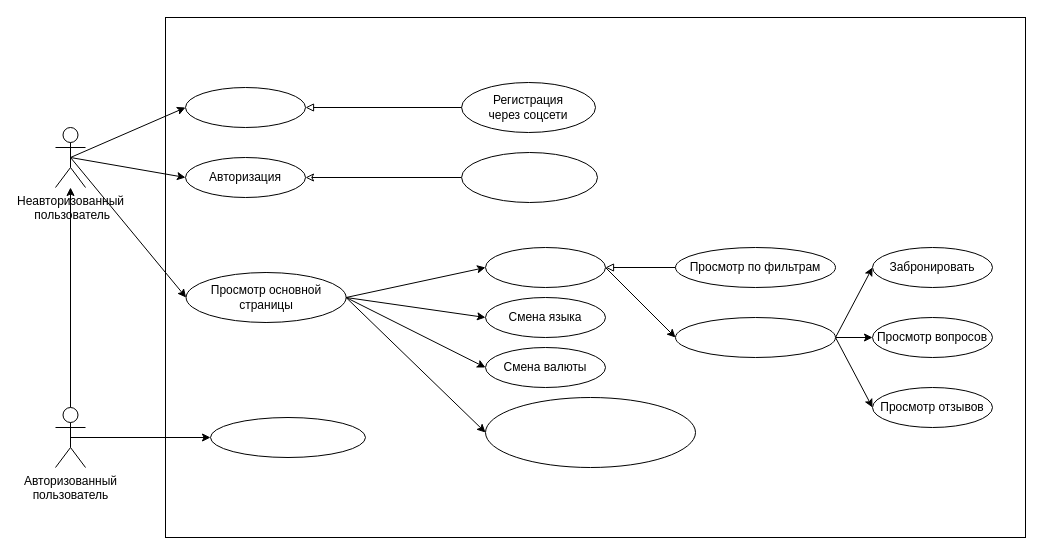
Image size: 1043x555. Some labels were removed from this diagram. The shapes that lost their labels are listed below. From the top down, each one's centre as x and y in pixels, then its label:
At point 245,107: "Регистрация".
At point 529,177: "Авторизация через соцсети".
At point 545,267: "Поиск жилья".
At point 755,337: "Просмотр варианта".
At point 288,437: "Просмотр избранного".
At point 590,432: "Просмотр автомобилей, вариантов досуга".
